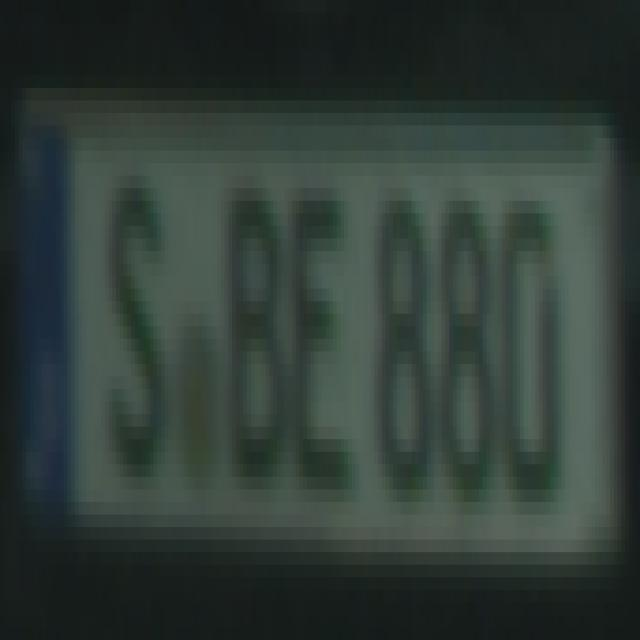Autre: (23, 100, 619, 560)
